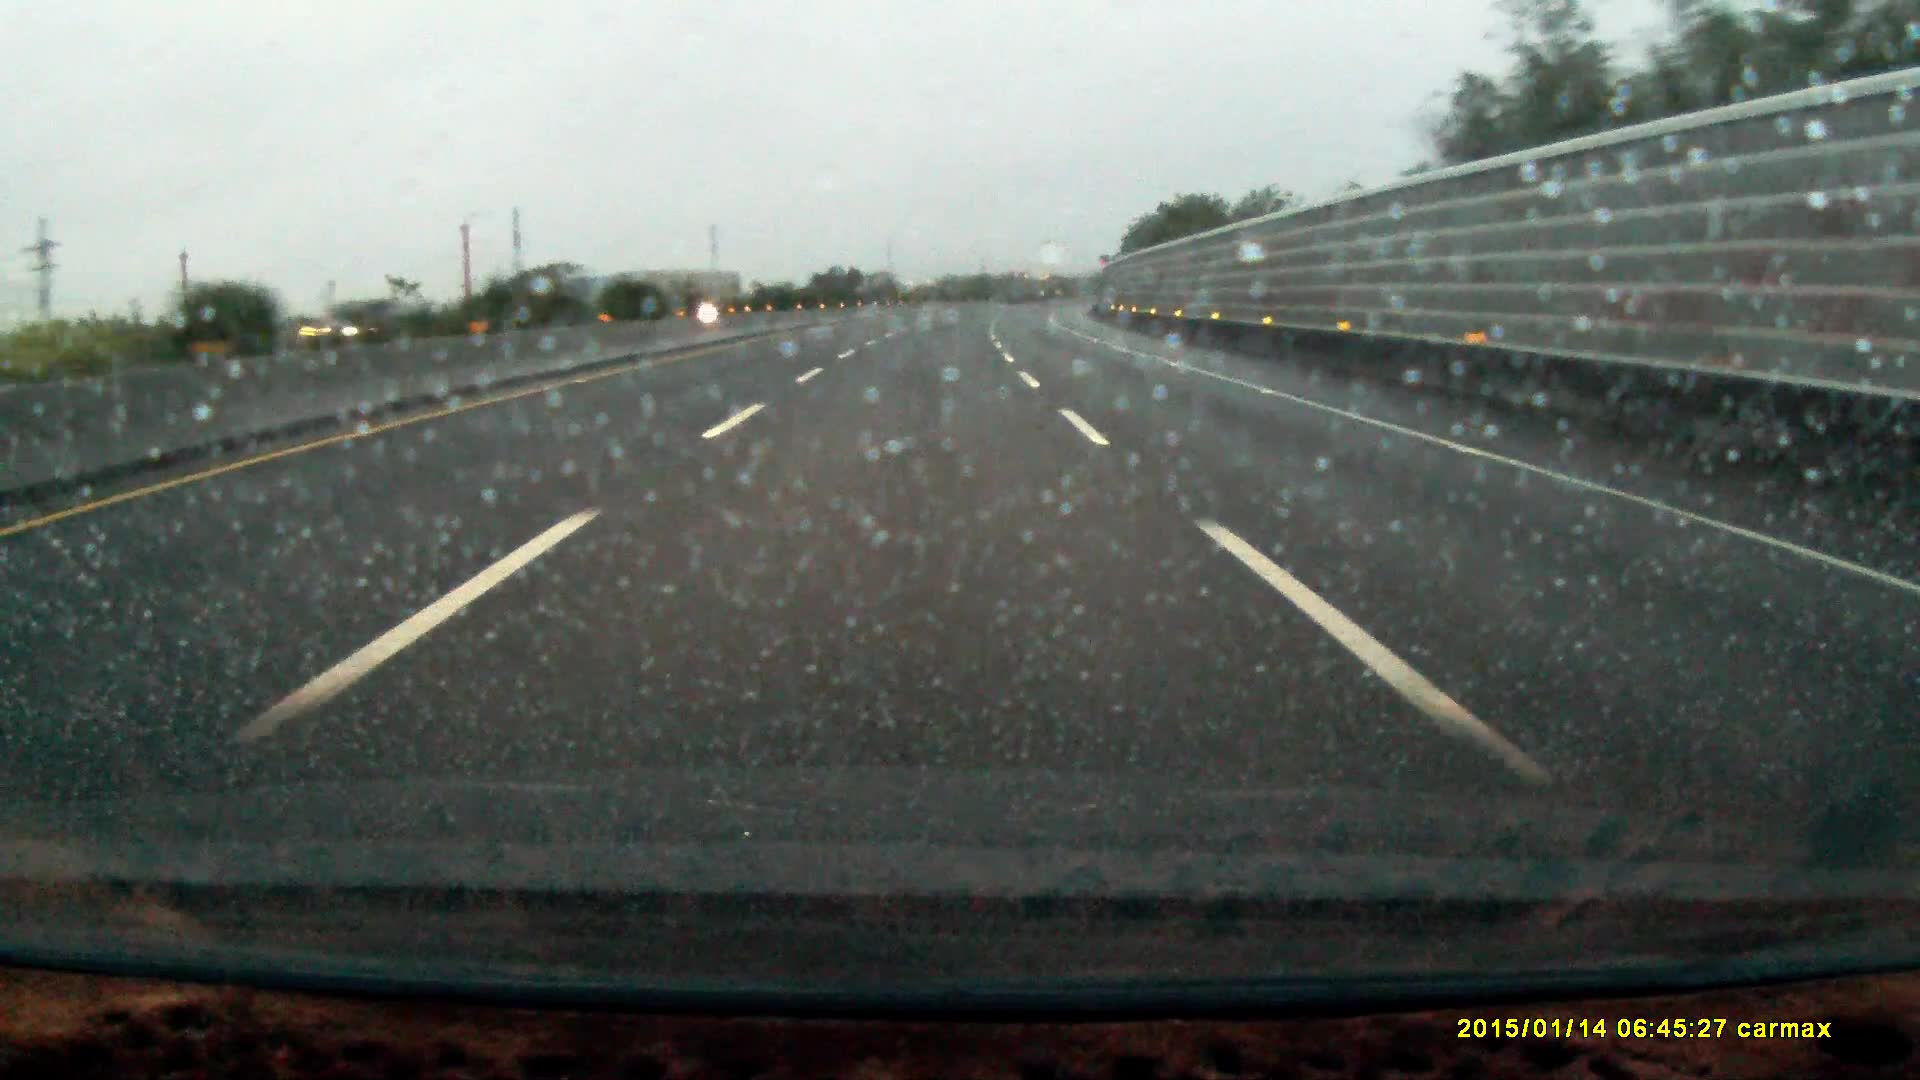vehicle: (291, 301, 448, 347)
